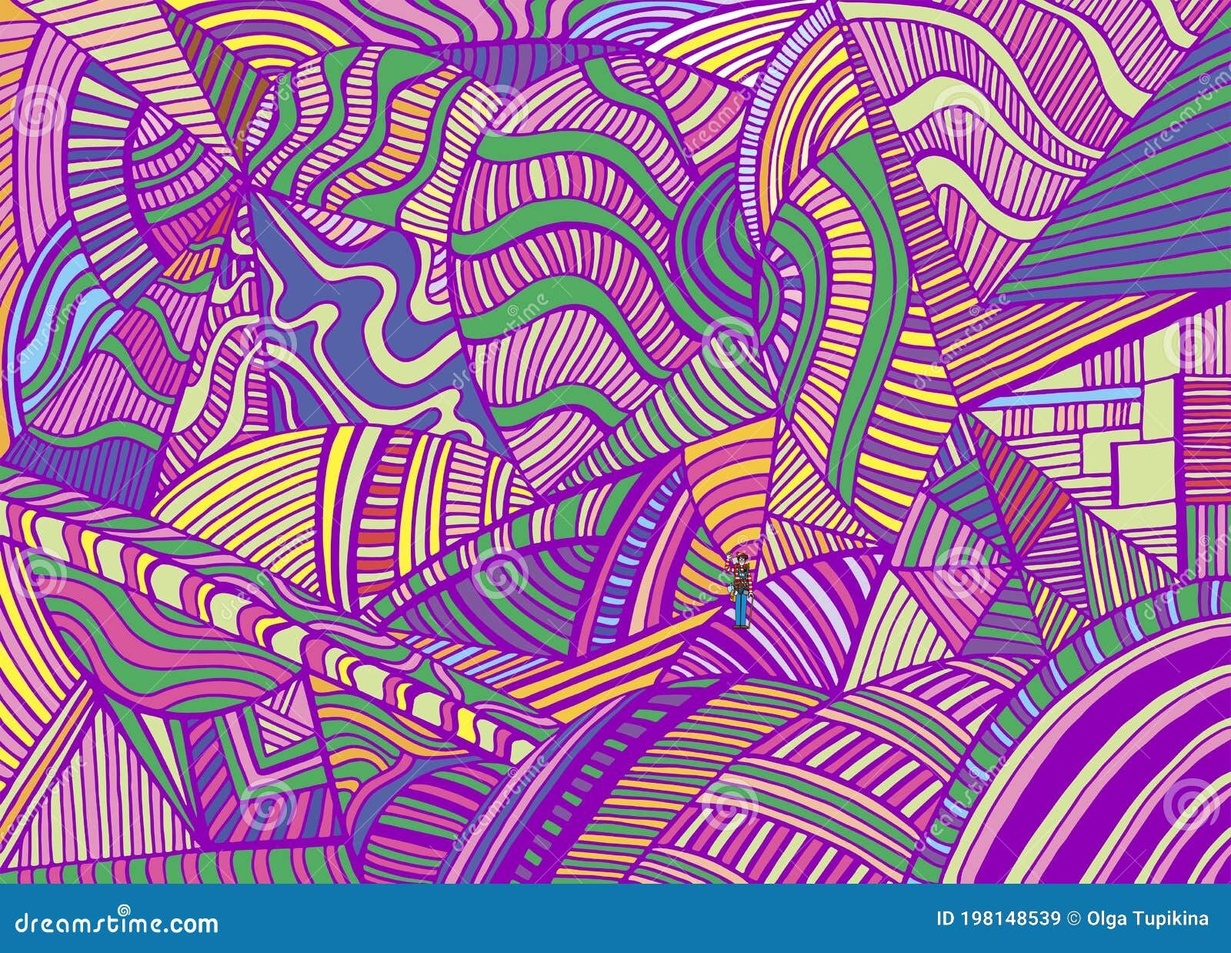waldo: (725, 551, 755, 630)
